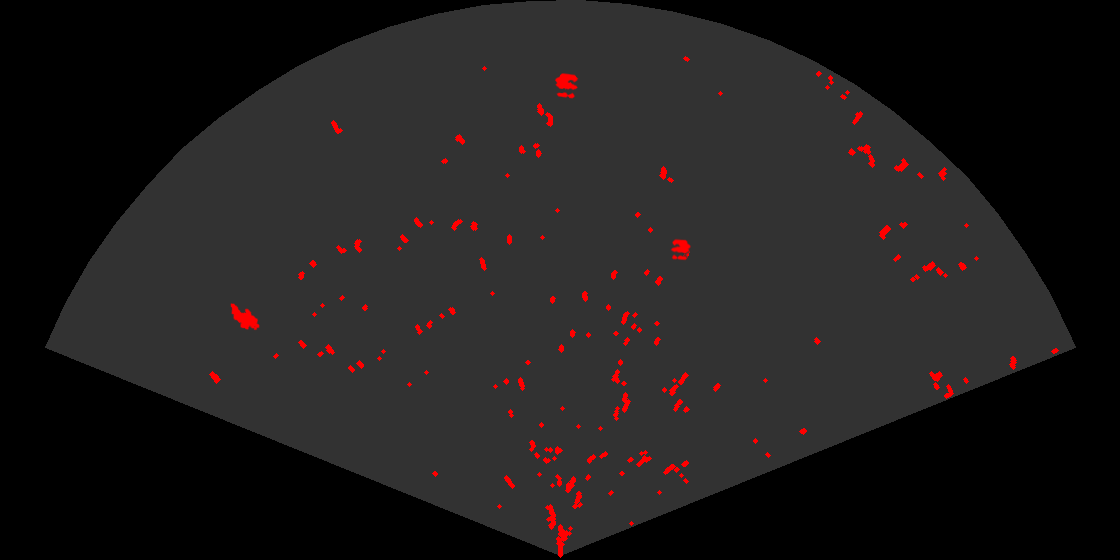AUV: (229, 301, 261, 332)
ball: (554, 72, 580, 100), (669, 237, 692, 262)
